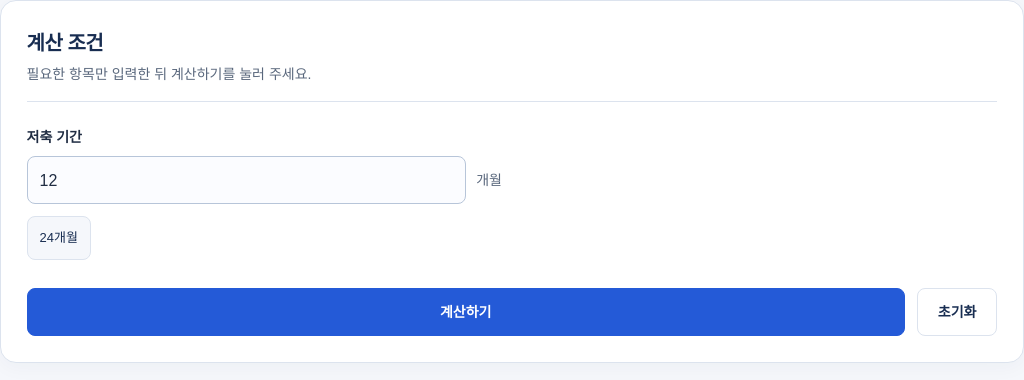
Test: uses declared quick values to replace a field while preserving hidden defaults and reset behavior
Click the button with aria-label "저축 기간 24개월 입력" at (59, 238), box x1=27 y1=216 x2=91 y2=260
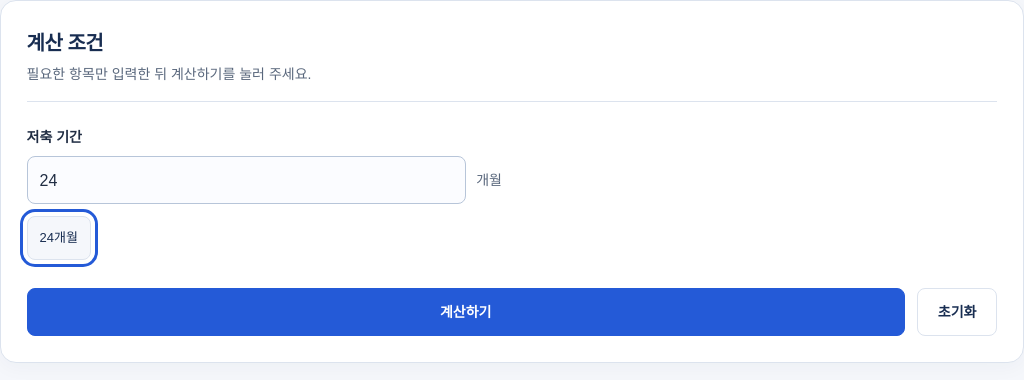
Expected: the field labelled "저축 기간" holds "24", x1=27 y1=156 x2=466 y2=204
Click the button "계산하기" at (466, 312), box x1=27 y1=288 x2=905 y2=336
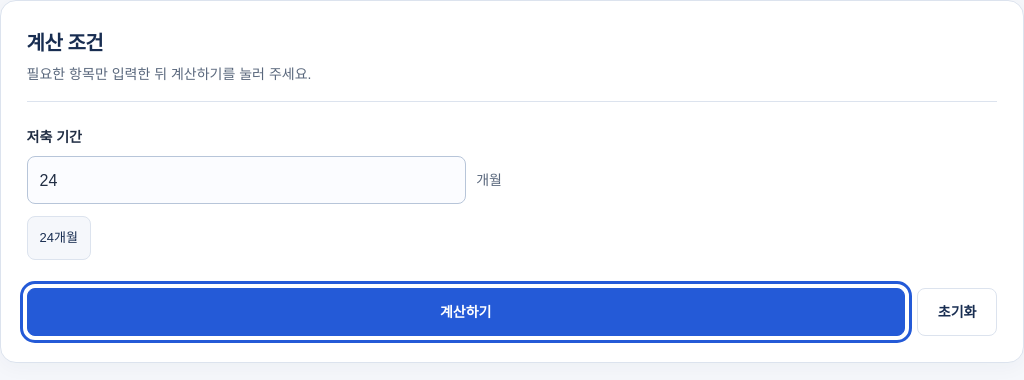
Click the button "초기화" at (957, 312), box x1=917 y1=288 x2=997 y2=336
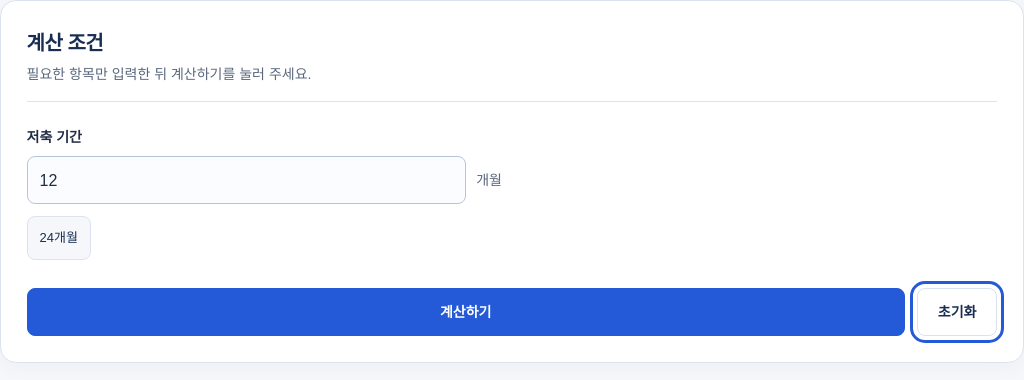
Expected: the field labelled "저축 기간" holds "12", x1=27 y1=156 x2=466 y2=204
